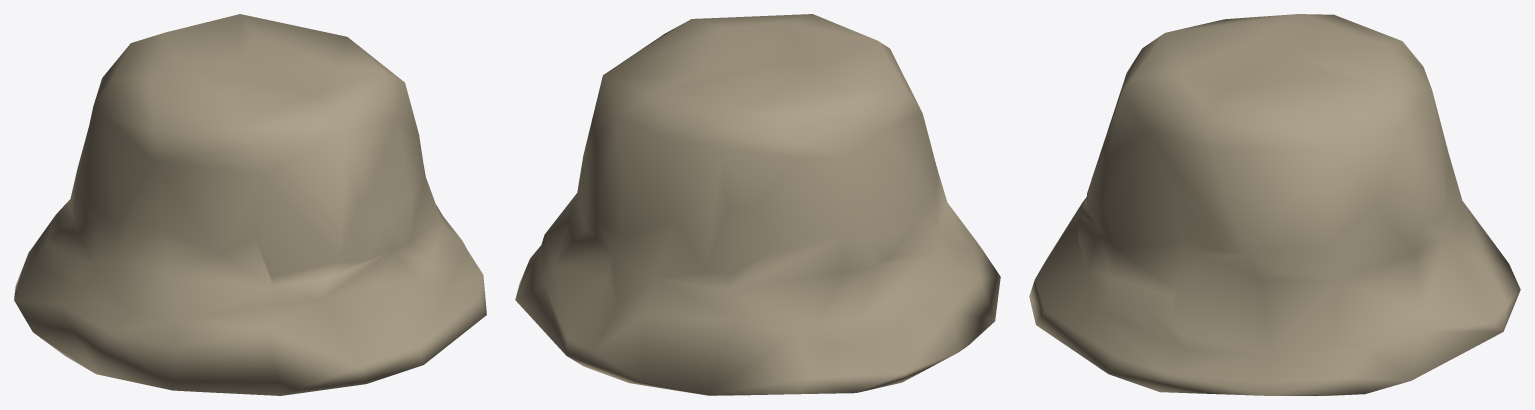
Rendered from hat-bucket.glb.
3 renders of one model, left to right at view 1: azimuth 30°, elevation 25°; view 2: azimuth 150°, elevation 25°; view 3: azimuth 270°, elevation 25°, orthographic. The views are drawn at different scales.
Visible parts, largest first — view 1: tripo_node_3e36800c-6ced-43ed-aac0-b2ddc0e39d18; view 2: tripo_node_3e36800c-6ced-43ed-aac0-b2ddc0e39d18; view 3: tripo_node_3e36800c-6ced-43ed-aac0-b2ddc0e39d18.
Boxes of the visible parts, box(x1,y1,x2,y2) form: tripo_node_3e36800c-6ced-43ed-aac0-b2ddc0e39d18: box(14, 14, 486, 395); tripo_node_3e36800c-6ced-43ed-aac0-b2ddc0e39d18: box(515, 14, 1000, 395); tripo_node_3e36800c-6ced-43ed-aac0-b2ddc0e39d18: box(1029, 14, 1520, 395).
Bounding box in the file's own units: 0.9937 × 0.5602 × 0.9933.
Materials: 1 (1 with a texture image).
